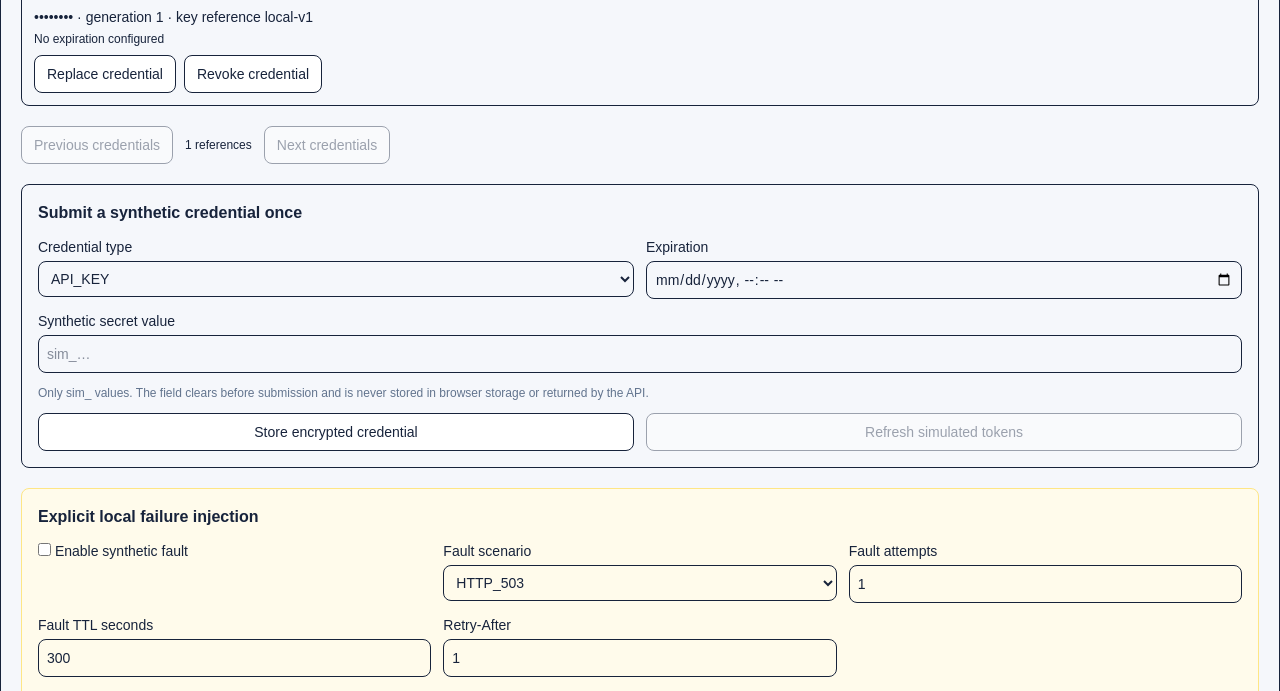
one-time credential submission clears secret before the response
(page scrolled)
Type "sim_transient_submission_value" into the password field labelled "Synthetic secret value" at (640, 354), box [38, 335, 1242, 373]
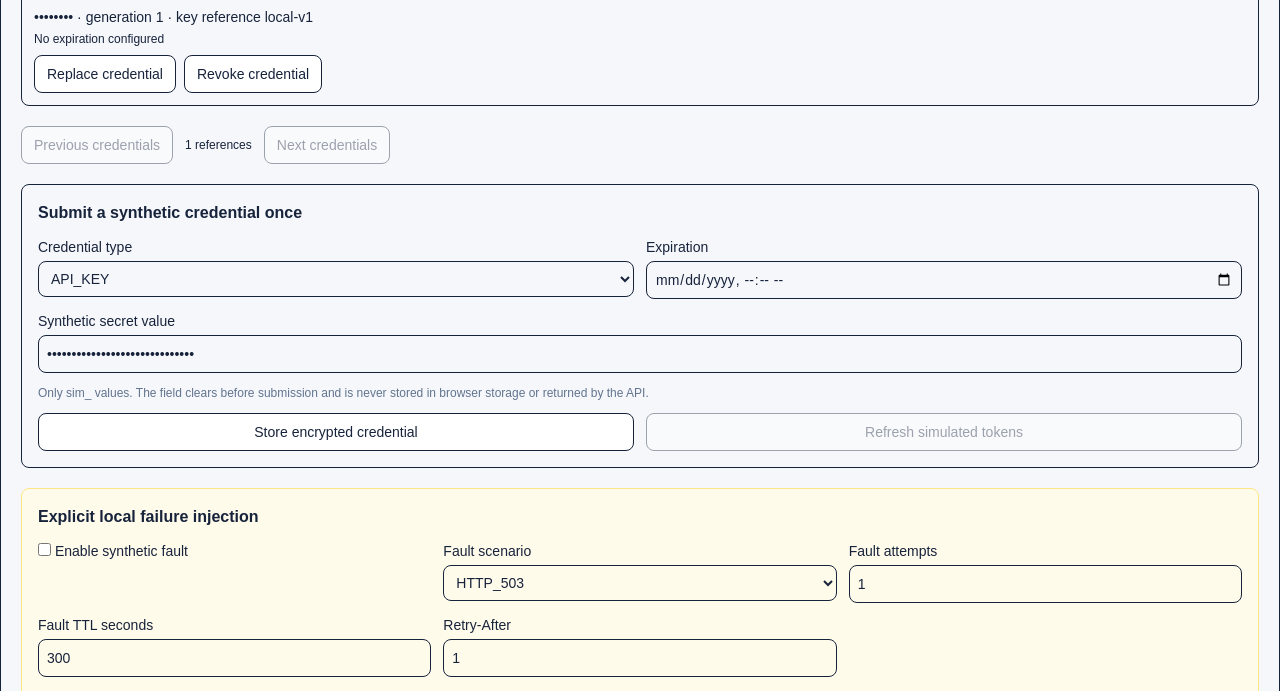
Click the button "Store encrypted credential" at (336, 432), box [38, 413, 634, 451]
(page scrolled)
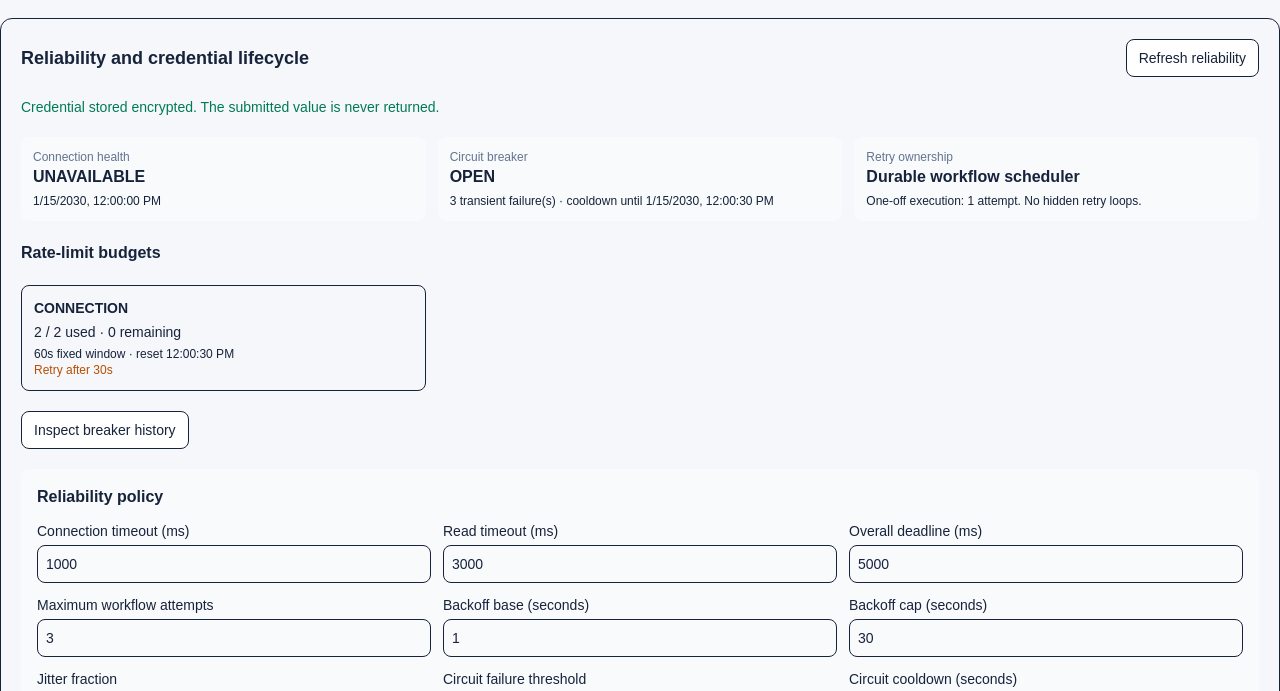
Check: the text "Credential stored encrypted. The submitted value is never returned." is shown, box [21, 99, 439, 115]
